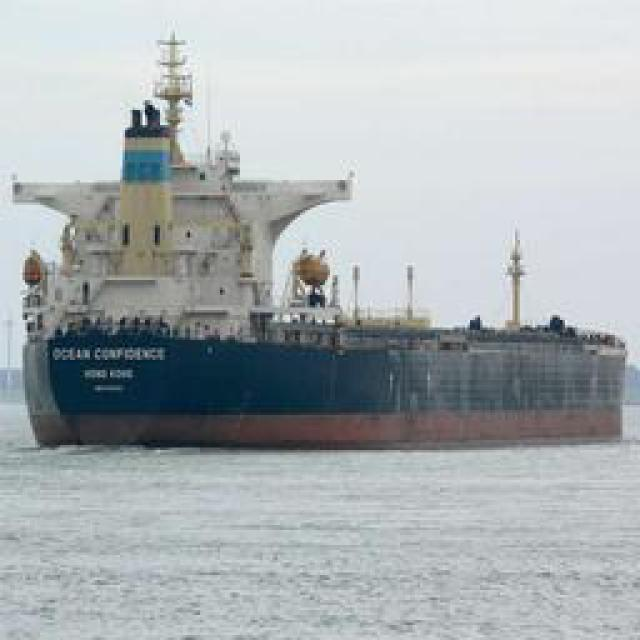Ship: (25, 88, 570, 453)
